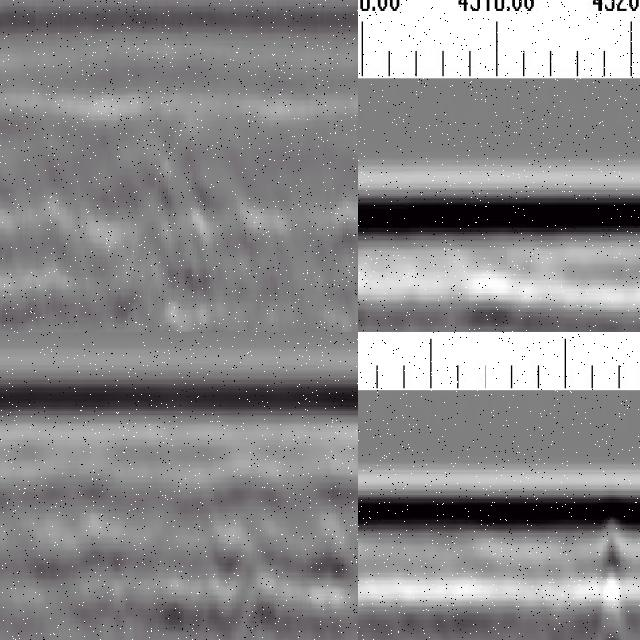crack: (596, 513, 624, 640)
loose: (1, 495, 359, 634)
